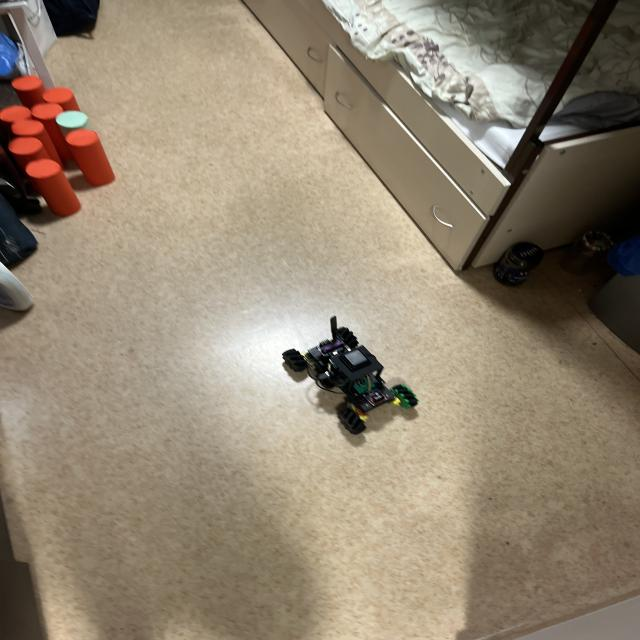robot: (283, 316, 418, 434)
